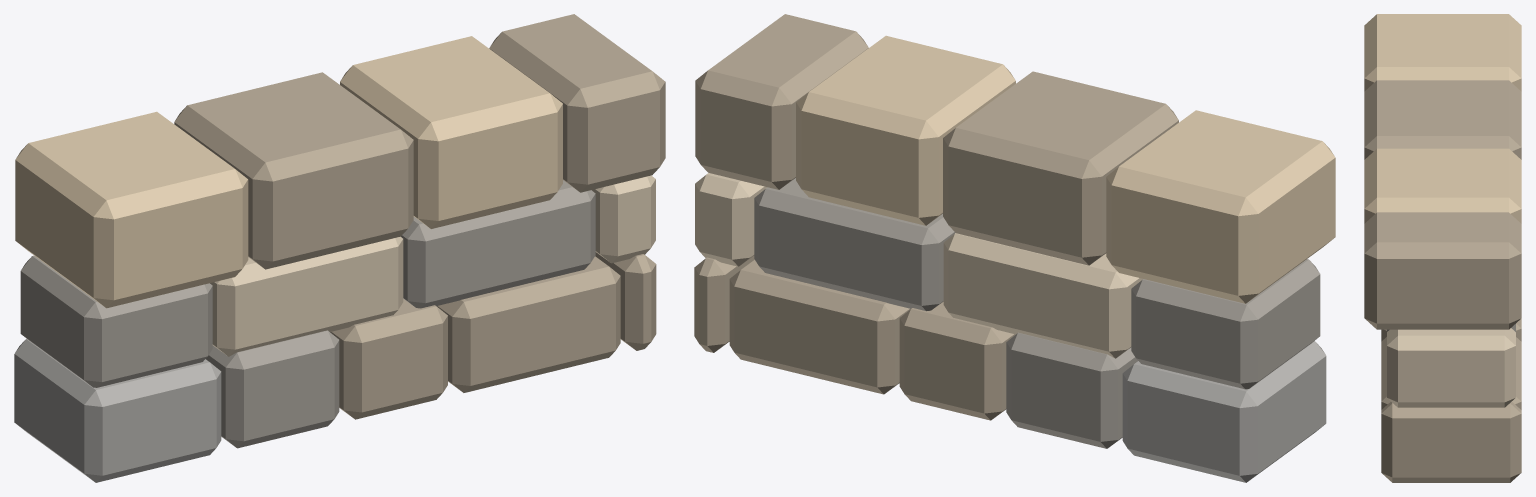
The model's file is plaza_edge_2m.glb.
3 renders of one model, left to right at view 1: azimuth 30°, elevation 25°; view 2: azimuth 150°, elevation 25°; view 3: azimuth 270°, elevation 25°, orthographic. The views are drawn at different scales.
Visible parts, largest first — view 1: plaza_edge_2m; view 2: plaza_edge_2m; view 3: plaza_edge_2m.
Boxes of the visible parts, <box> form: plaza_edge_2m: <box>14,14,665,482</box>; plaza_edge_2m: <box>694,14,1335,482</box>; plaza_edge_2m: <box>1364,14,1521,482</box>.
Bounding box in the file's own units: 2 × 0.9584 × 0.56.
